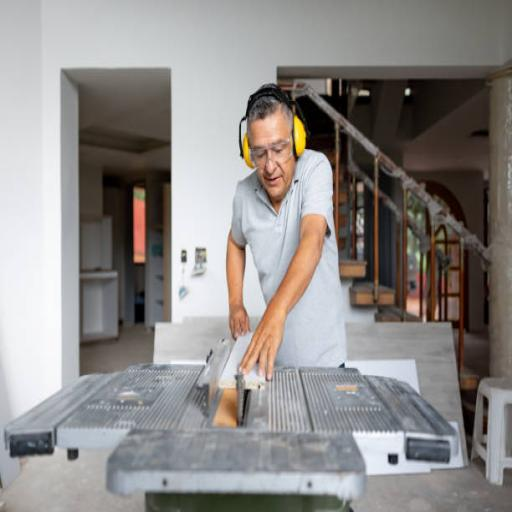No Gloves: (223, 279, 288, 405)
No Helmet: (222, 73, 334, 200)
no jacket: (218, 140, 356, 408)
safety glasses: (235, 126, 304, 178)
